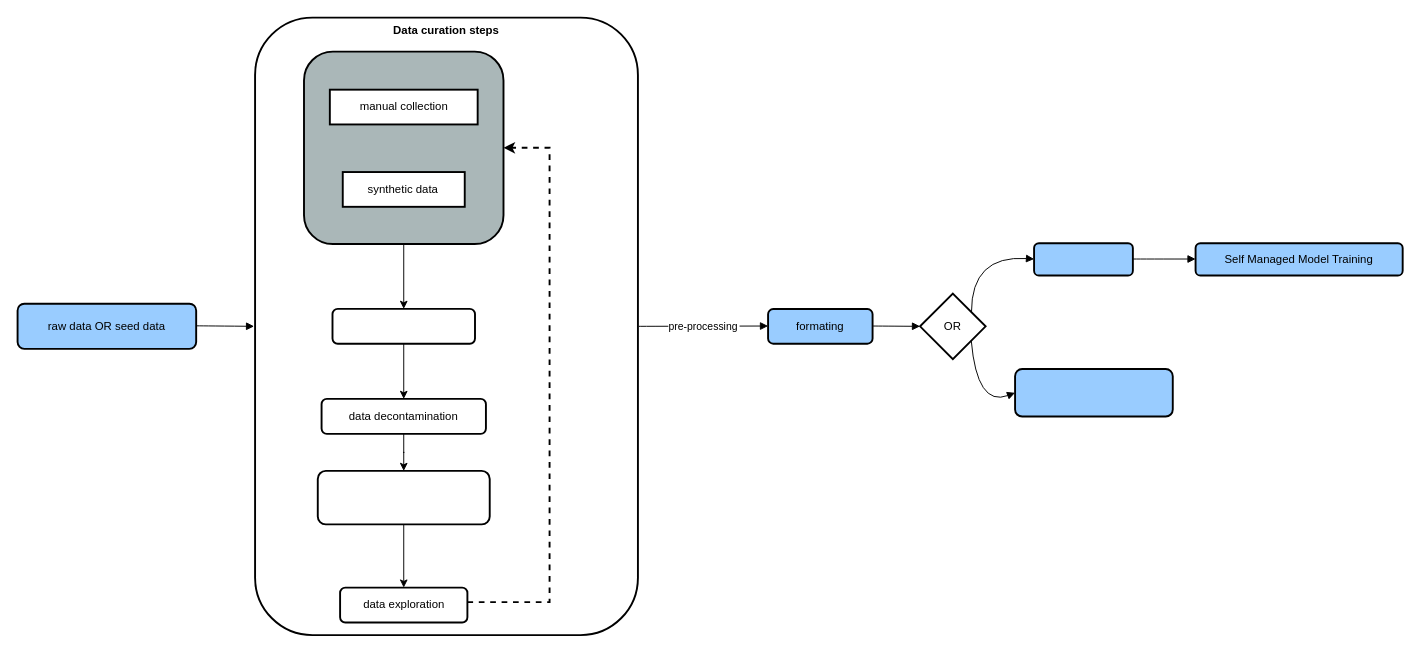
This 1419x652 diagram has some shape labels left out. The box of each missing label's shape, as (x1, y1, x2, y2) in pixels:
**Manual** & Automated data quality evaluation: (316, 469, 490, 525)
data acquisition: (303, 50, 504, 245)
data deduplication: (331, 307, 475, 344)
Managed Training API e.g Bedrock: (1014, 368, 1173, 417)
tokenization: (1033, 242, 1133, 276)
